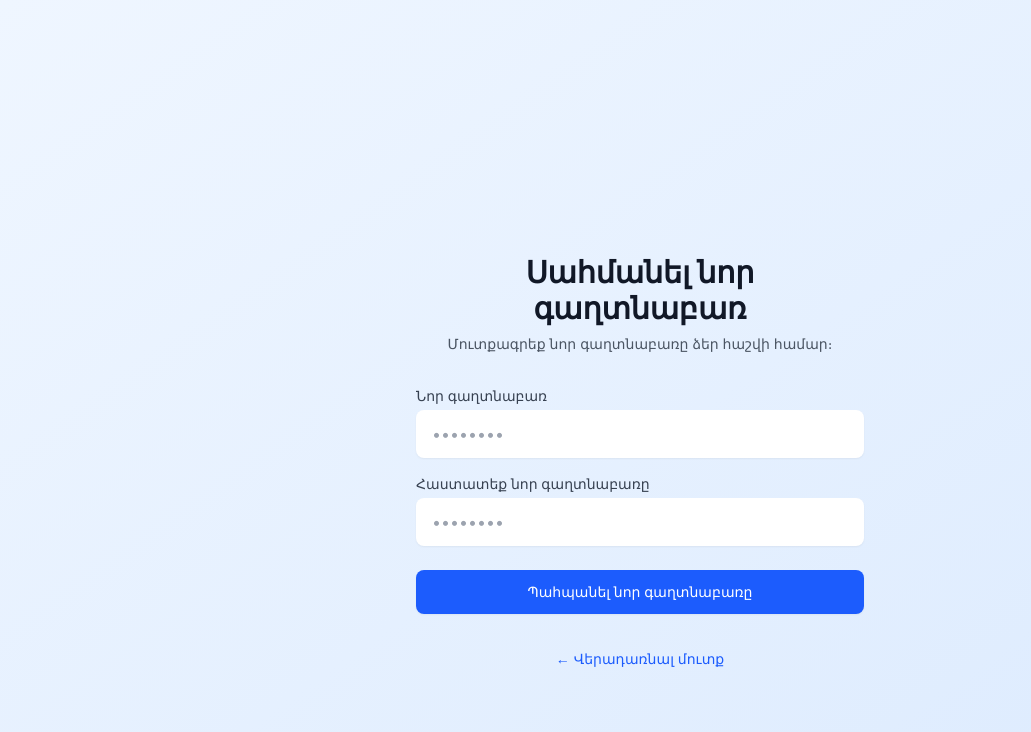
ResetPasswordPage › blocks submit when password is shorter than 6 chars
Type "12345" into the password field labelled "Նոր գաղտնաբառ" at (640, 434), box [416,410,864,458]
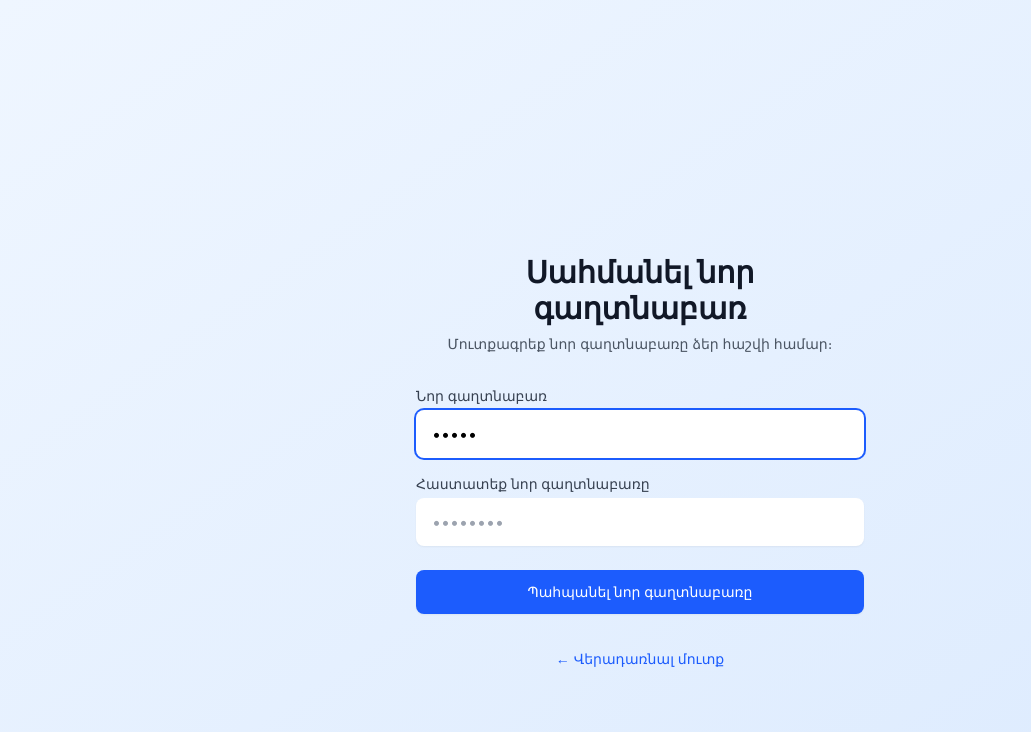
Type "12345" into the password field labelled "Հաստատեք նոր գաղտնաբառը" at (640, 522), box [416,498,864,546]
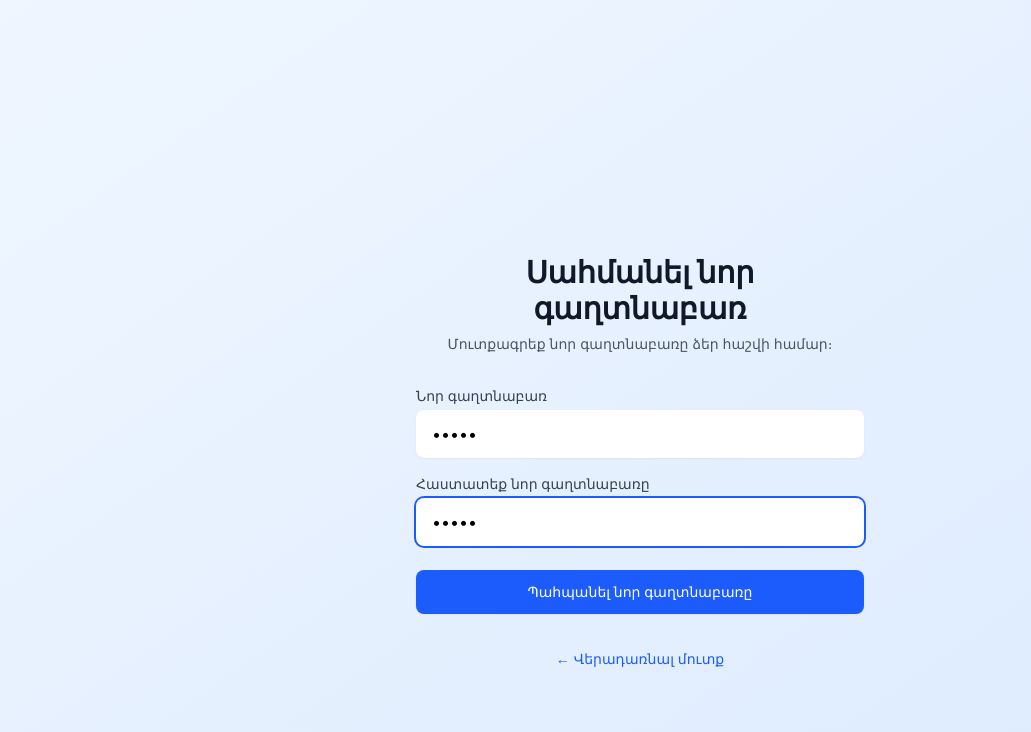
Click the button "Պահպանել նոր գաղտնաբառը" at (640, 592), box [416,570,864,614]
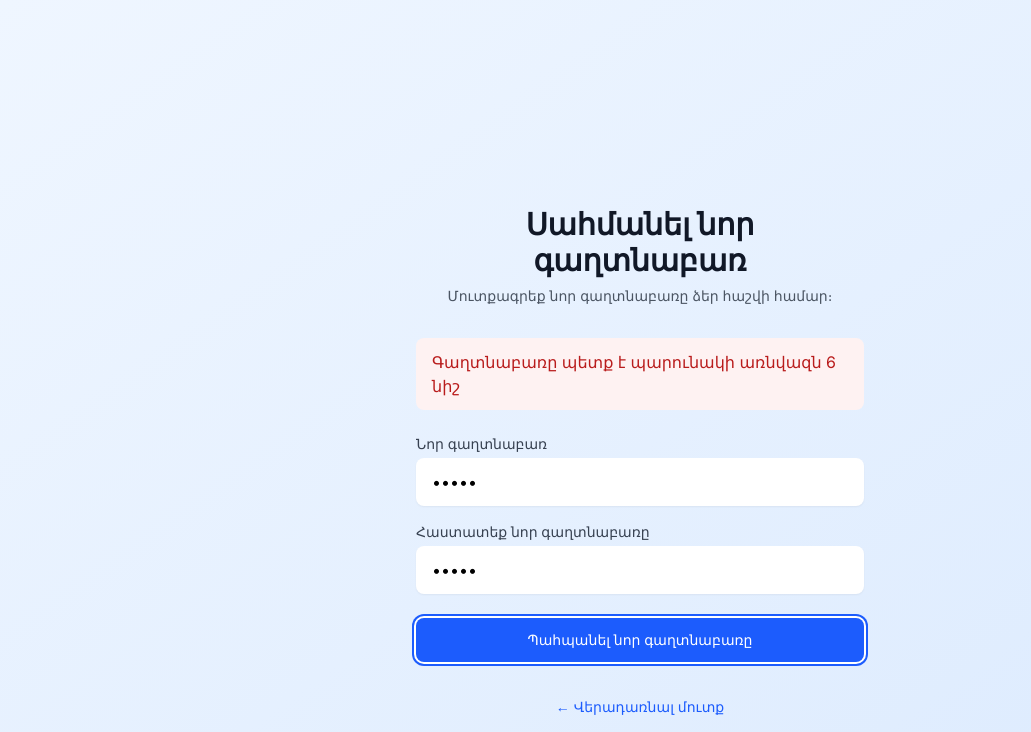
Expected: the text "Գաղտնաբառը պետք է պարունակի առնվազն 6 նիշ" is shown, [416,338,864,410]
